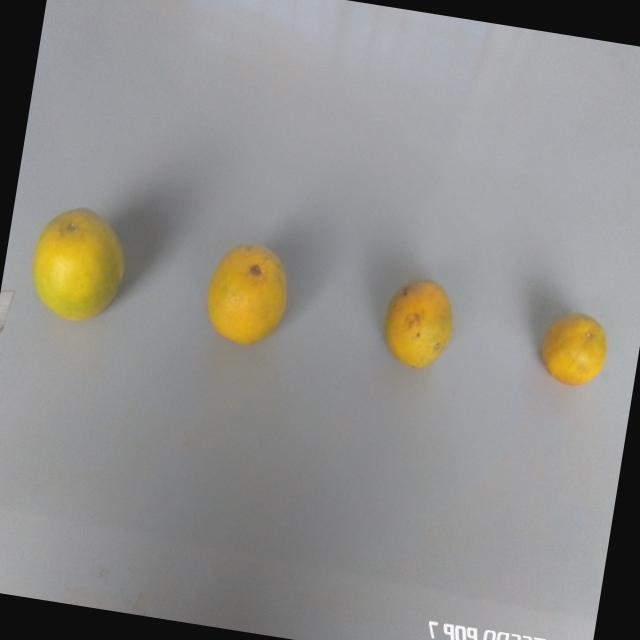agrume: (17, 187, 134, 331), (191, 234, 299, 367), (378, 261, 467, 387), (530, 306, 618, 390)
